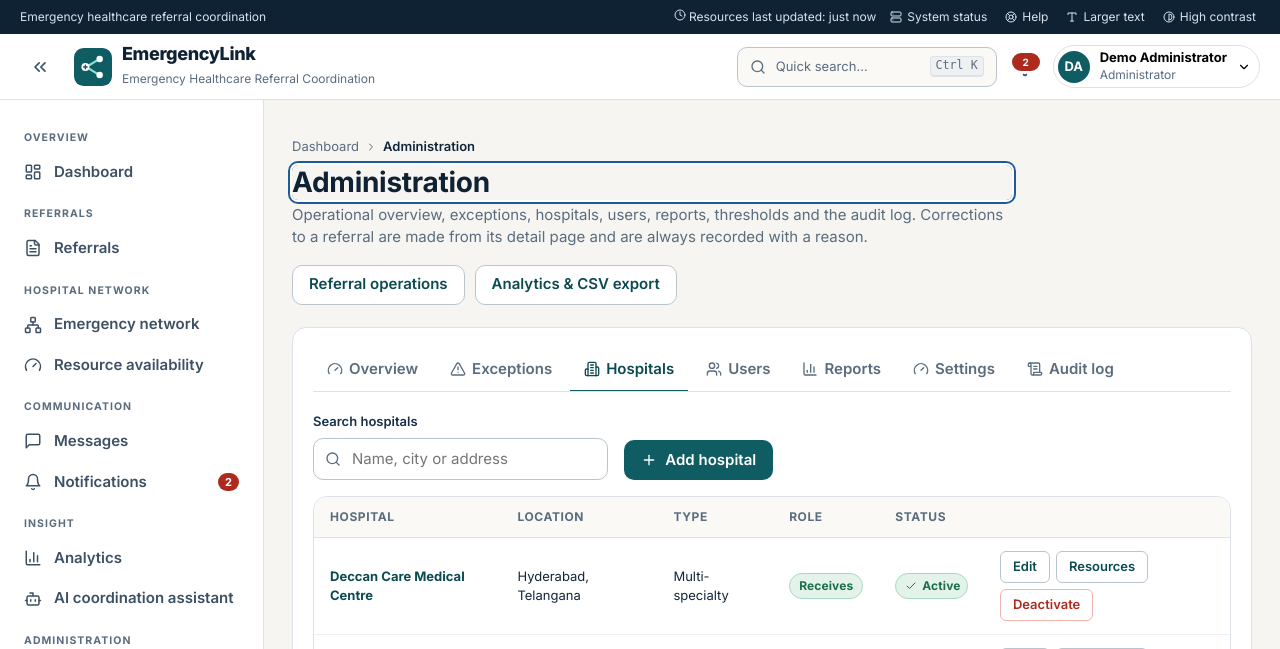
Test: administrator tools: ownership, settings, reports, audit, hospitals, saved filters › corrects resources only after a change and a reason, and shows matching warnings
Click the button "Resources" in the row of "Deccan Care Medical Centre" at coordinates (1102, 567), box x1=1056 y1=551 x2=1148 y2=583
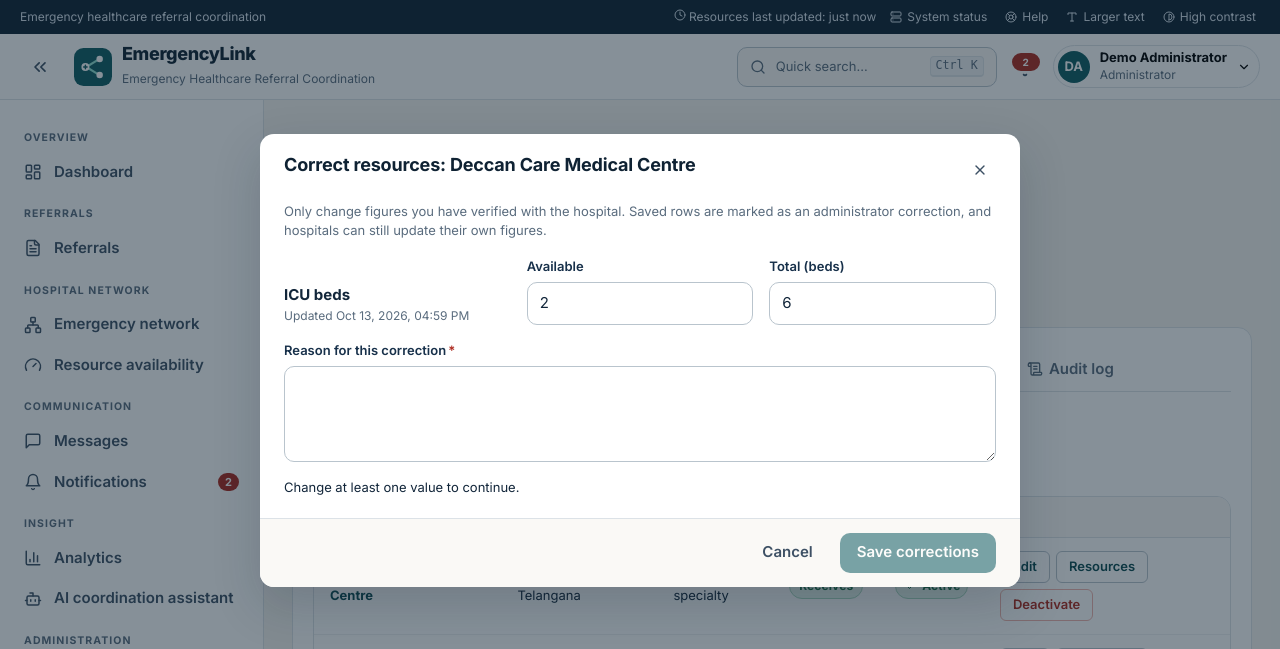
Expected: the button "Save corrections" is disabled, x1=840 y1=532 x2=996 y2=572
Replace the text in the field labelled "Available" with "0" at coordinates (640, 303), box x1=527 y1=282 x2=753 y2=324
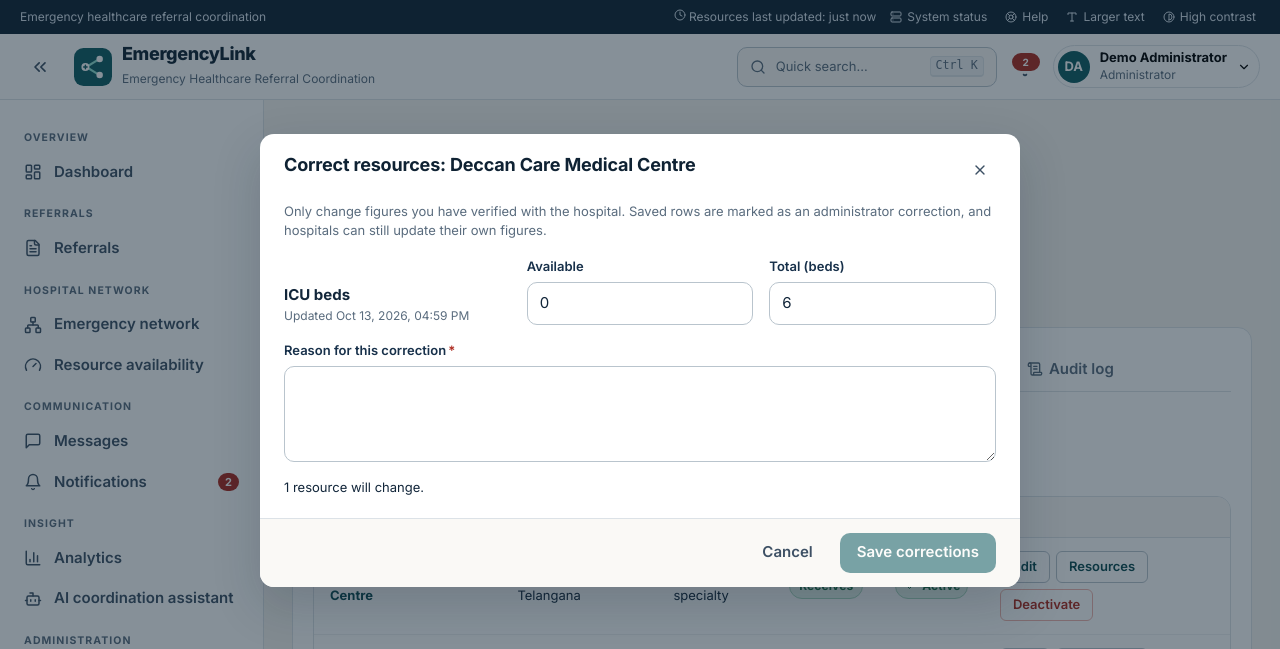
Type "Phoned the ward" into the text box labelled "Reason for this correction*" at coordinates (640, 414), box x1=284 y1=366 x2=996 y2=462
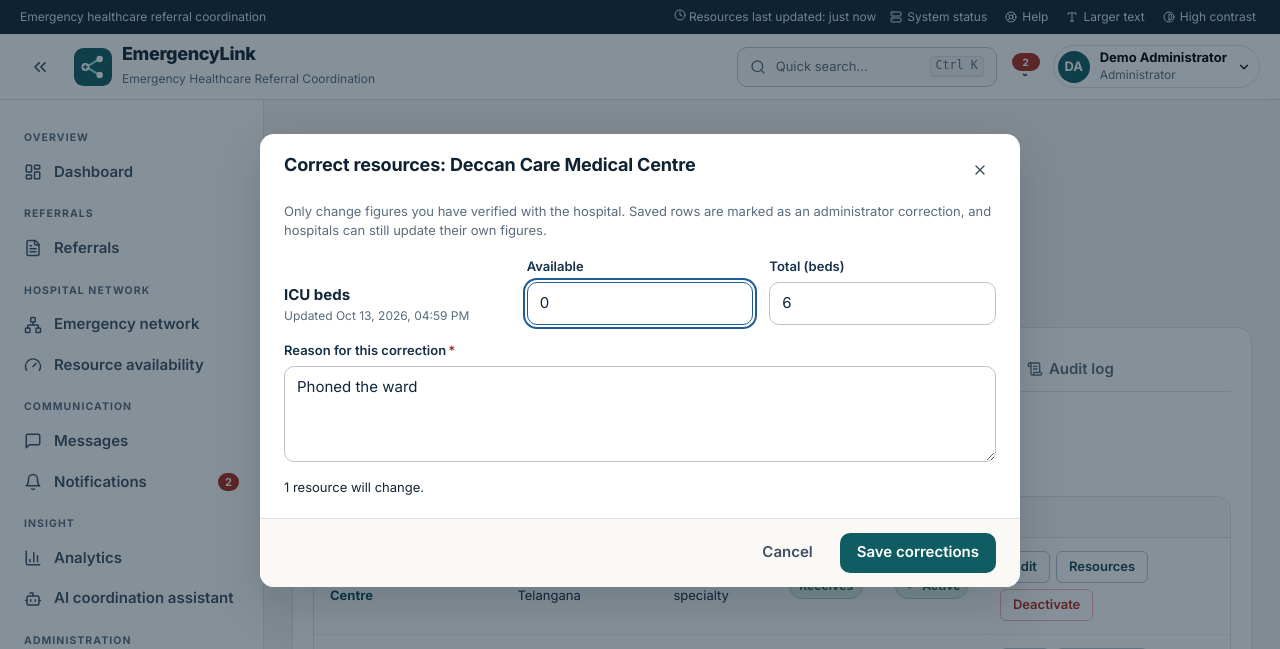
Expected: the button "Save corrections" is enabled
Click the button "Save corrections" at coordinates (918, 552), box x1=840 y1=532 x2=996 y2=572
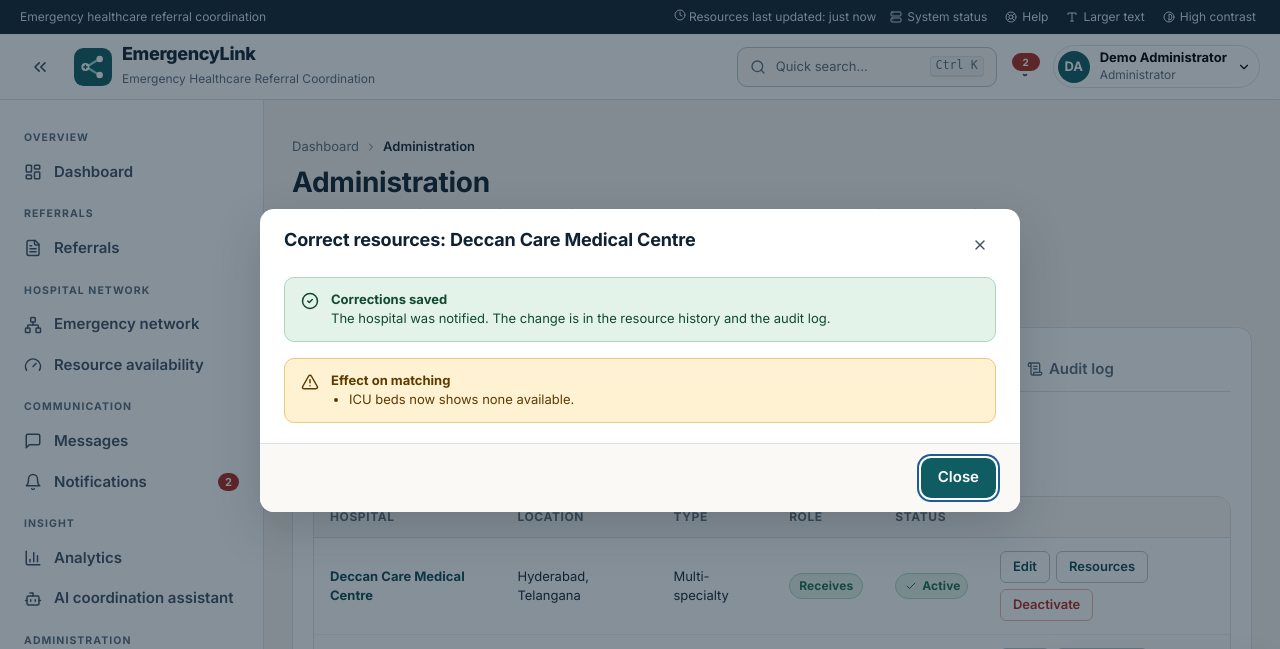
Expected: the list item "ICU beds now shows none available." is shown, x1=349 y1=391 x2=574 y2=407
